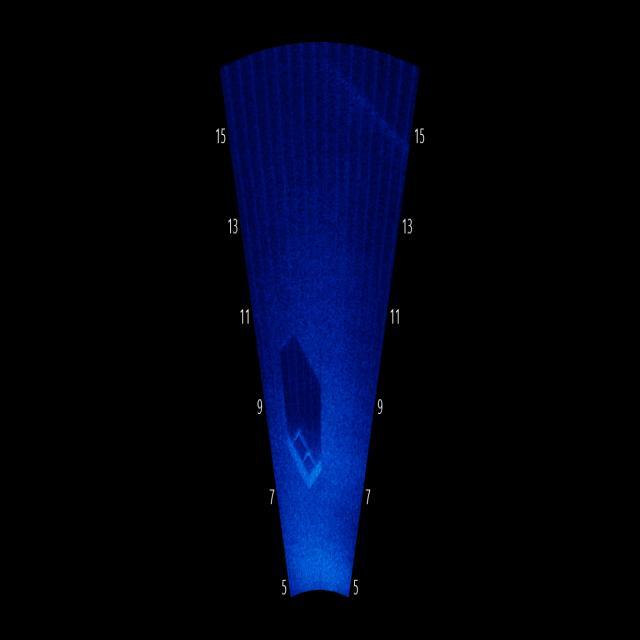square: (283, 408, 333, 502)
